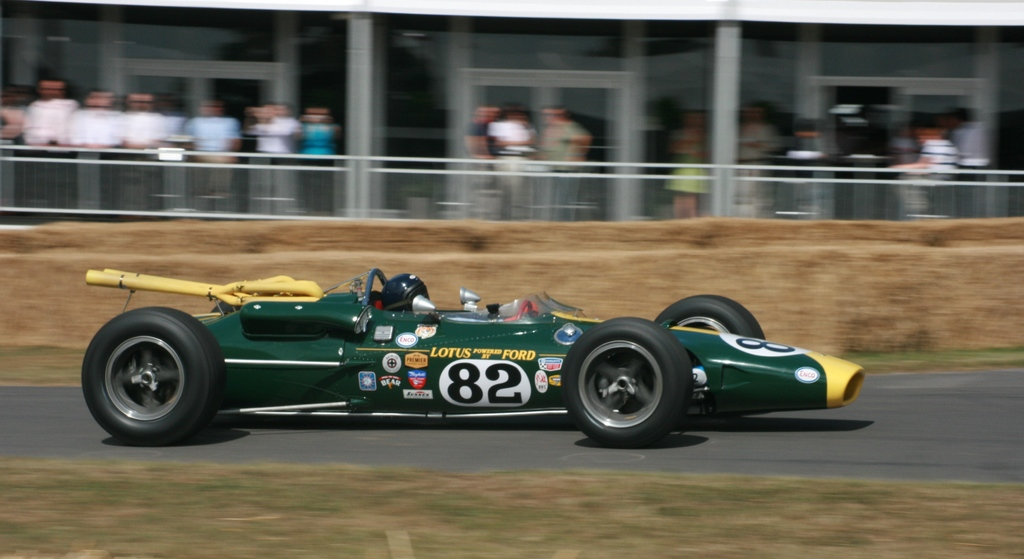Car: (80, 267, 863, 447)
